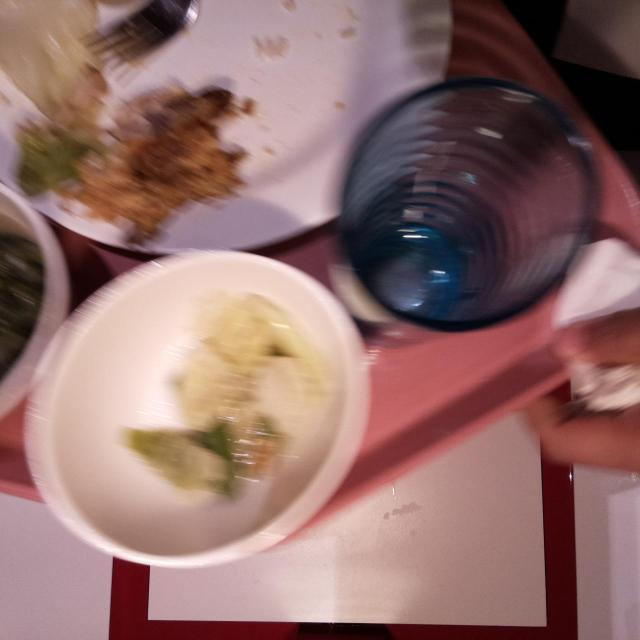Vegetable: (126, 296, 308, 496)
